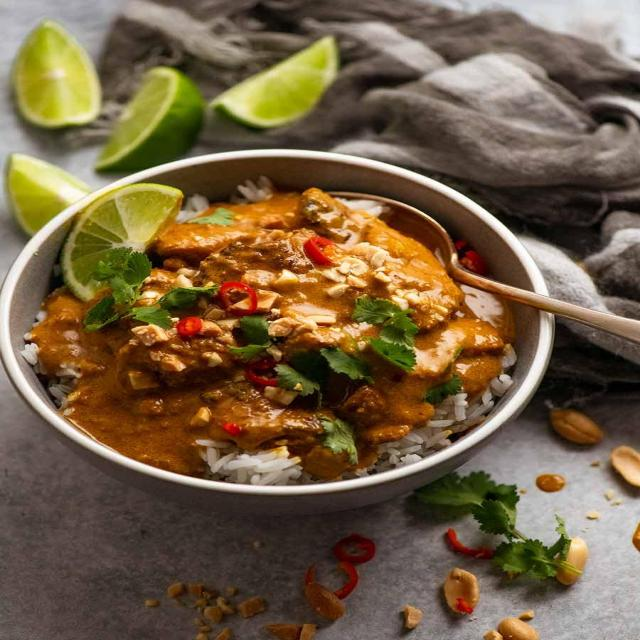chicken: (29, 170, 528, 467)
